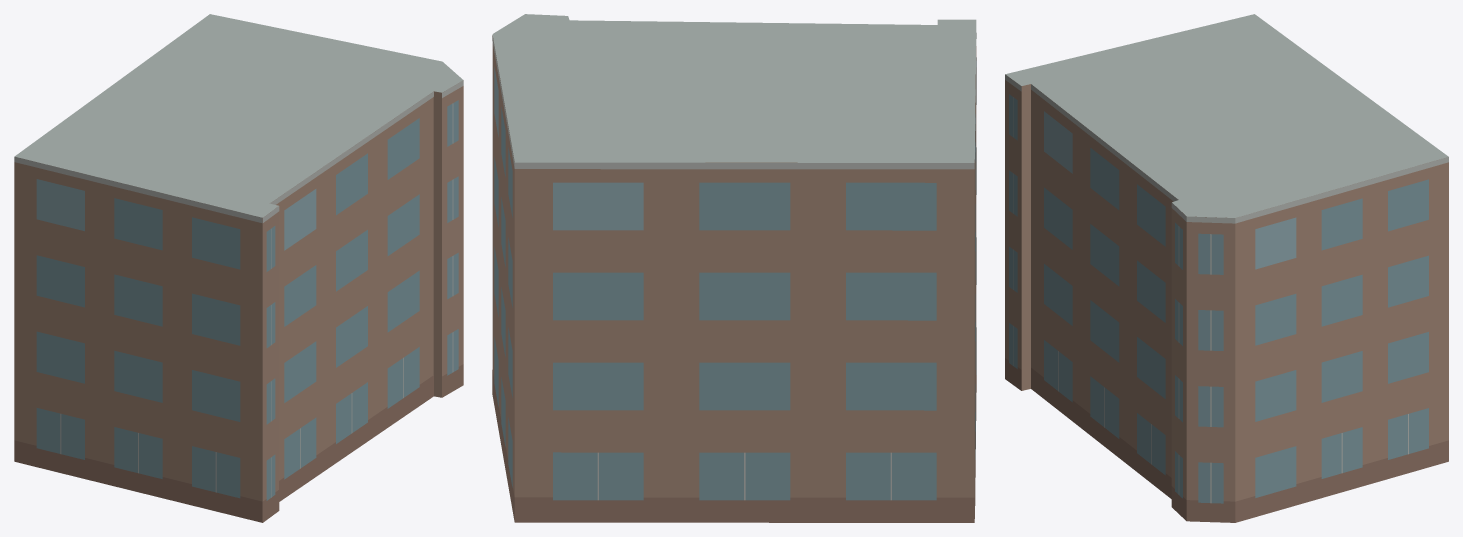
Rendered from survey-upis-32915877.glb.
3 views of the same model, side by side, from view 1: azimuth 30°, elevation 25°; view 2: azimuth 150°, elevation 25°; view 3: azimuth 270°, elevation 25° (orthographic). The views are drawn at different scales.
Parts seen in each view (by area): view 1: survey-upis-32915877.tmp; view 2: survey-upis-32915877.tmp; view 3: survey-upis-32915877.tmp.
Boxes of the visible parts, x1,y1,x2,y2 form: survey-upis-32915877.tmp: (14,14,463,522); survey-upis-32915877.tmp: (492,14,976,522); survey-upis-32915877.tmp: (1005,14,1448,522).
Size of the model in its own units: 19.33 by 13.46 by 17.77.
